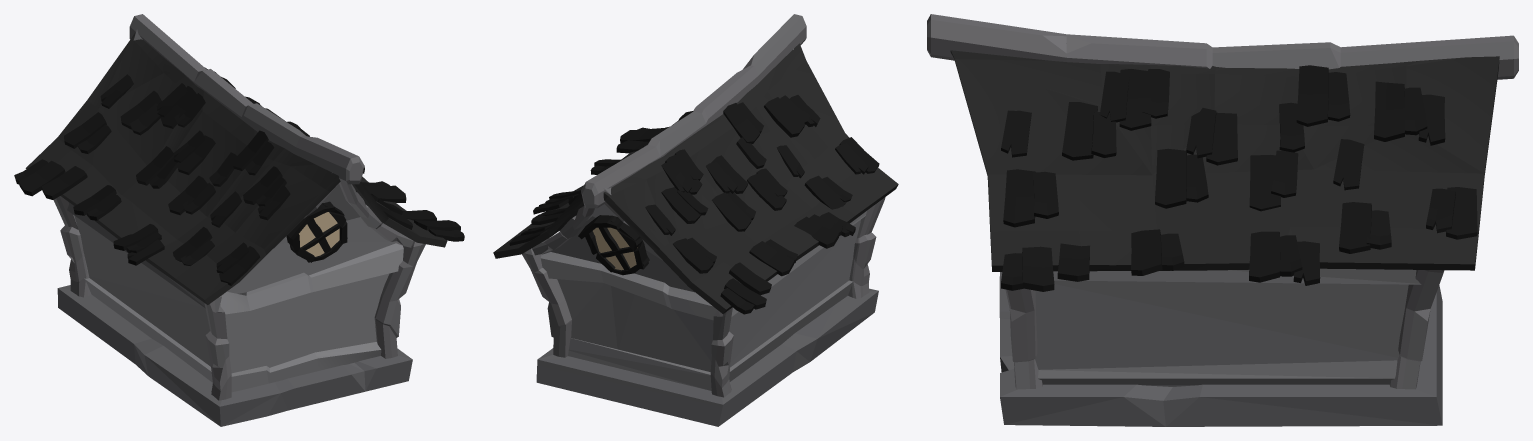
File: WF_LP_HT_Build_HouseRoom.001.2.fbx
3 views of the same model, side by side, from view 1: azimuth 30°, elevation 25°; view 2: azimuth 150°, elevation 25°; view 3: azimuth 270°, elevation 25° (orthographic). The views are drawn at different scales.
Parts seen in each view (by area): view 1: WF_LP_HT_Build_HouseRoom.001.2; view 2: WF_LP_HT_Build_HouseRoom.001.2; view 3: WF_LP_HT_Build_HouseRoom.001.2.
Boxes of the visible parts, bbox=[...] form: WF_LP_HT_Build_HouseRoom.001.2: bbox=[14, 14, 464, 426]; WF_LP_HT_Build_HouseRoom.001.2: bbox=[493, 14, 898, 426]; WF_LP_HT_Build_HouseRoom.001.2: bbox=[927, 14, 1518, 426].
Bounding box in the file's own units: 5.79 × 5 × 7.55.
